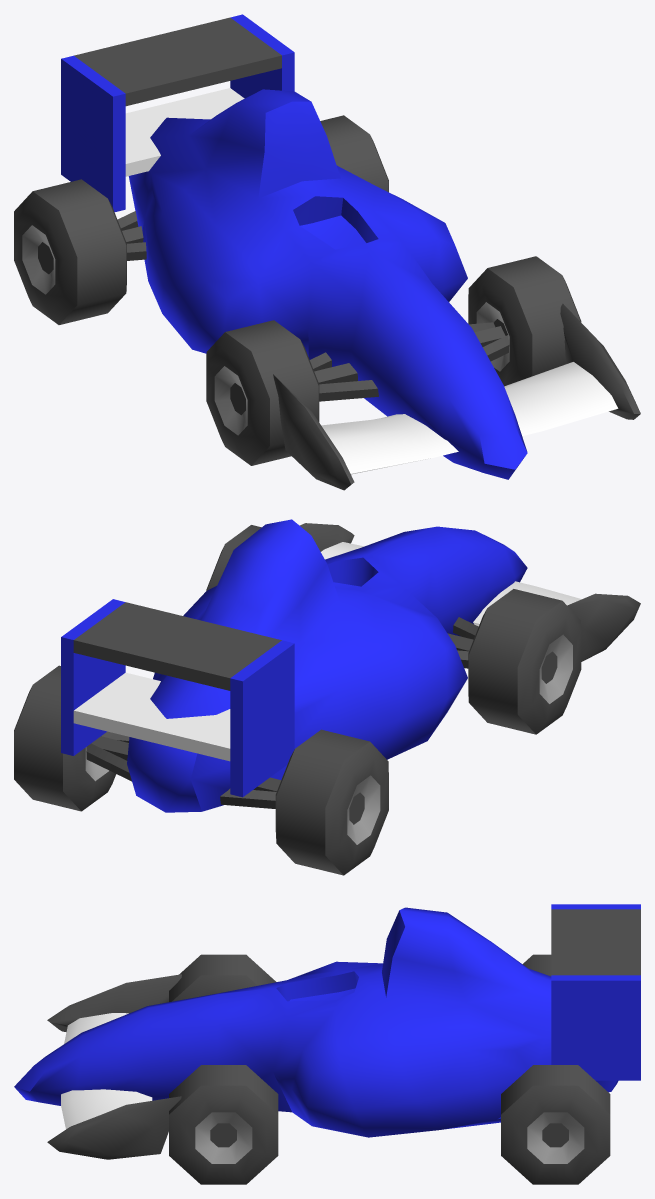
Rendered from car002.fbx.
3 views of the same model, one above another, from view 1: azimuth 30°, elevation 25°; view 2: azimuth 150°, elevation 25°; view 3: azimuth 270°, elevation 25° (orthographic). The views are drawn at different scales.
Parts seen in each view (by area): view 1: obj0, obj2, obj1, obj3; view 2: obj0, obj2, obj1, obj3; view 3: obj0, obj2, obj3, obj1.
Part boxes in pixels (box(x1,y1,x2,y2)): obj0: box(61, 14, 527, 479); obj2: box(14, 17, 640, 490); obj1: box(125, 88, 618, 474); obj3: box(22, 225, 509, 435); obj0: box(61, 519, 527, 812); obj2: box(14, 523, 640, 875); obj1: box(73, 542, 581, 761); obj3: box(85, 634, 572, 844); obj0: box(14, 904, 640, 1137); obj2: box(47, 909, 640, 1184); obj3: box(195, 1112, 584, 1163); obj1: box(61, 1013, 152, 1129).
Bounding box in the file's own units: 10.33 × 7.36 × 20.
